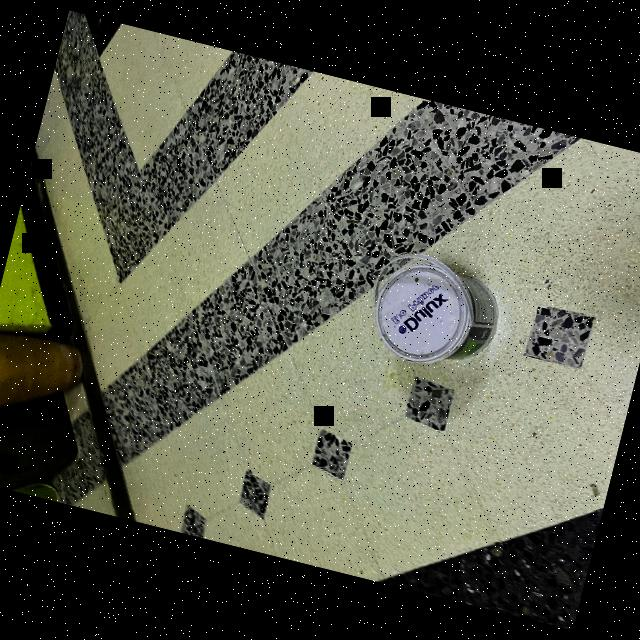paint_bucket: (361, 244, 508, 378)
